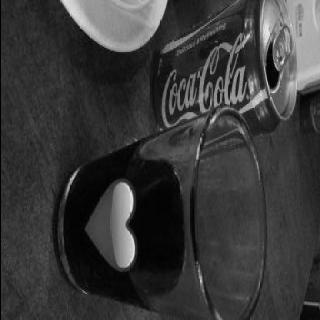alumunium_can: (152, 1, 296, 138)
